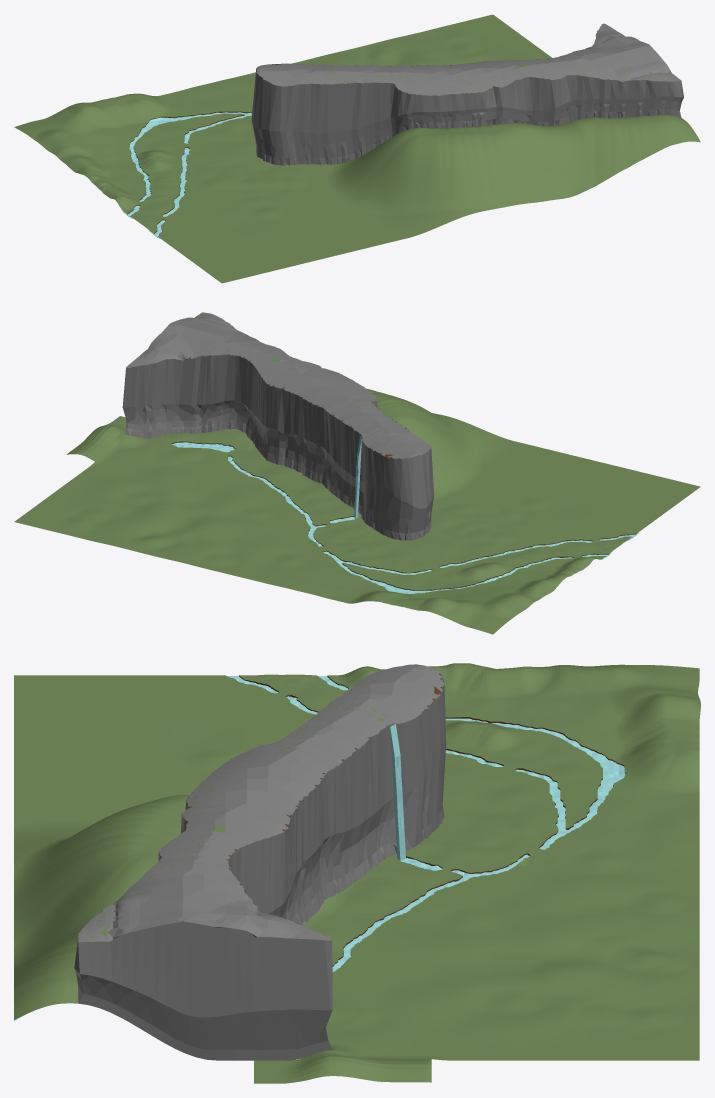
File: NewTerrainRender.fbx
The picture shows the model from 3 angles, top to bottom: view 1: azimuth 30°, elevation 25°; view 2: azimuth 150°, elevation 25°; view 3: azimuth 270°, elevation 25°; orthographic projection. The views are drawn at different scales.
Visible parts, largest first — view 1: Cube.018; view 2: Cube.018; view 3: Cube.018.
Boxes of the visible parts, box(x1,y1,x2,y2) form: Cube.018: box(14, 14, 700, 283); Cube.018: box(14, 312, 700, 634); Cube.018: box(14, 663, 700, 1083).
Size of the model in its own units: 1702 by 275 by 1207.
